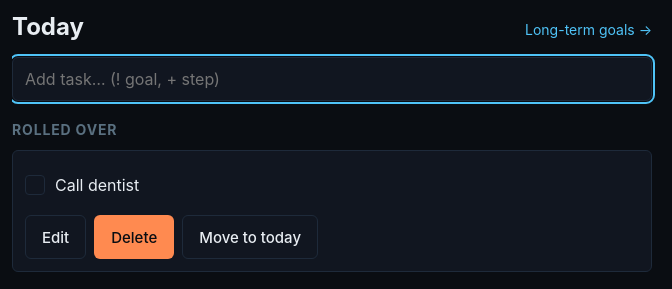
Test case: Rolled-over block › shows prior-day tasks and moves them to today (AC-09)
Check: the checkbox named "Mark Call dentist complete" is shown, box [25,175,139,195]
Click the button "Move to today" at coordinates (250, 237), box [182,215,318,259]
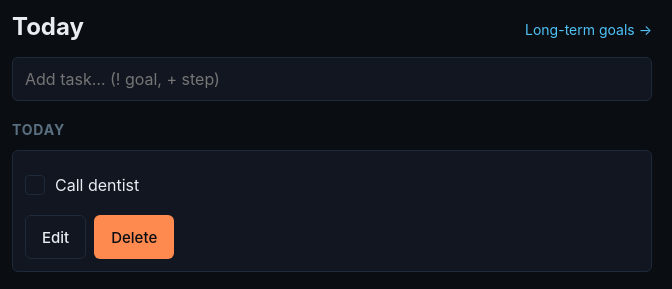
Check: the heading "Rolled over" is gone
